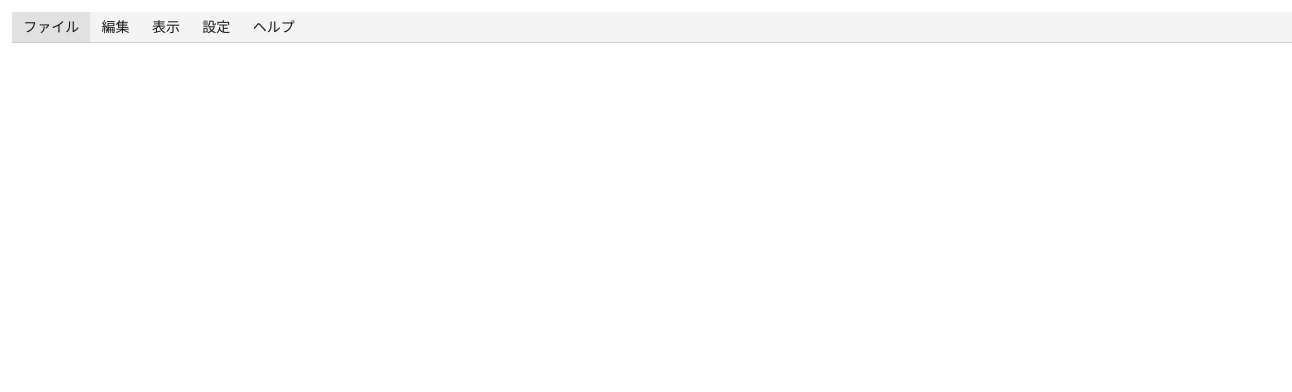
Test: 押す › **使えない操作は薄く出す**（消すと並びが押すたびに変わる）
The image size is (1292, 392).
What coordinates should you click on to do the following:
click the menu item with class "menubar__title" showing "ファイル"
I would click on:
 (51, 27)
Its box is [12,12,90,42].
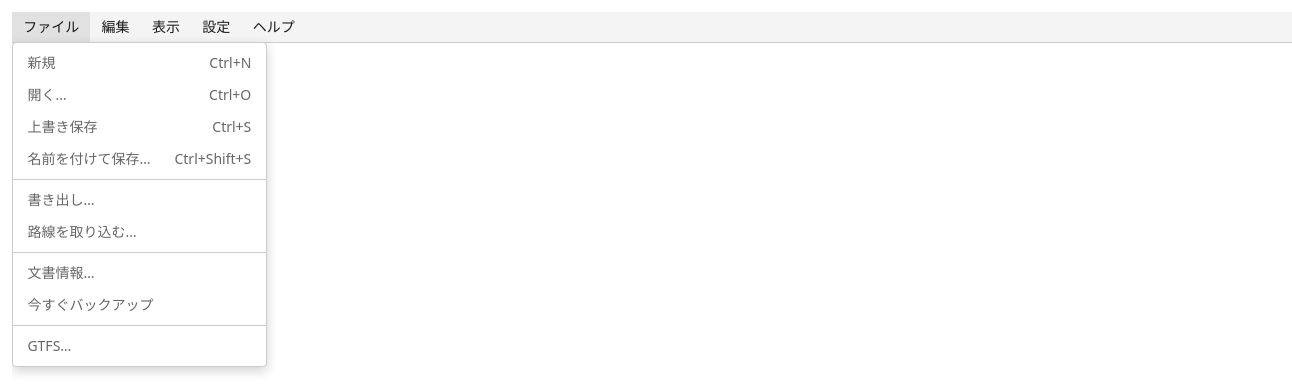
Expected: the menu item with class "menubar__item" showing "上書き保存 Ctrl+S" is disabled, [13,111,266,143]
